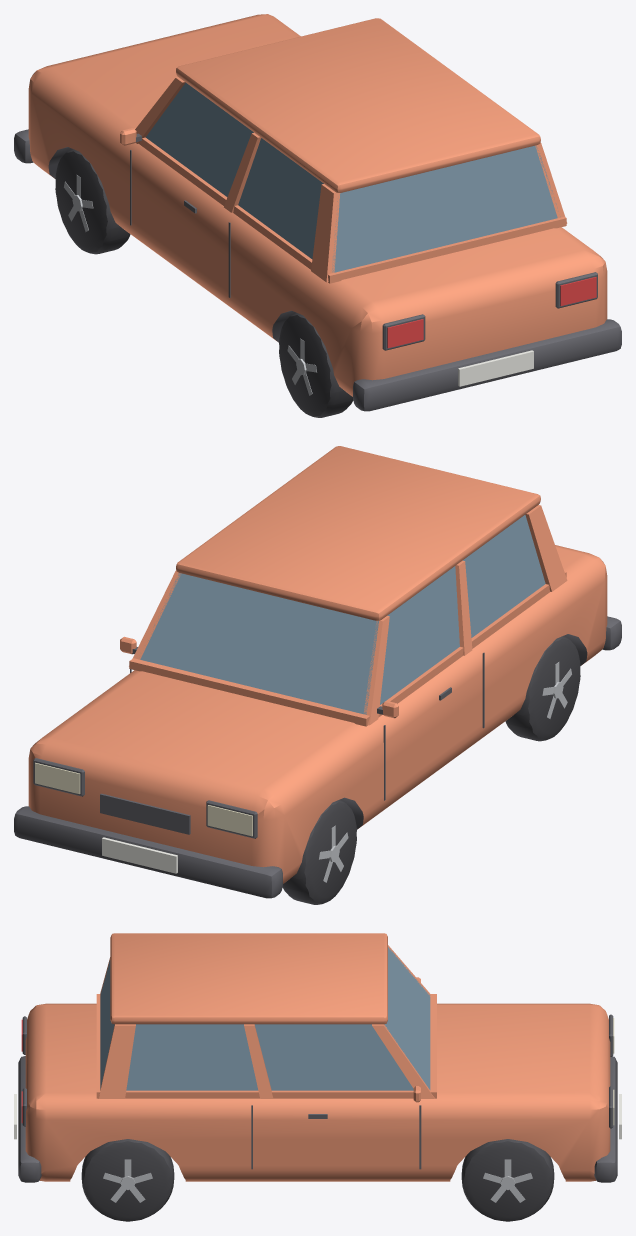
The model's file is car_hatchback.glb.
3 views of the same model, one above another, from view 1: azimuth 30°, elevation 25°; view 2: azimuth 150°, elevation 25°; view 3: azimuth 270°, elevation 25° (orthographic). The views are drawn at different scales.
Visible parts, largest first — view 1: body, wheel_fl, wheel_rl; view 2: body, wheel_rl, wheel_fl; view 3: body, wheel_fr, wheel_rr.
Boxes of the visible parts, x1,y1,x2,y2 form: body: (14, 14, 621, 411); wheel_fl: (55, 149, 130, 254); wheel_rl: (279, 312, 353, 417); body: (14, 446, 621, 898); wheel_rl: (505, 636, 580, 741); wheel_fl: (282, 799, 356, 904); body: (14, 933, 621, 1182); wheel_fr: (461, 1139, 554, 1221); wheel_rr: (81, 1139, 174, 1221).
Size of the model in its own units: 1.86 by 1.49 by 4.16.
